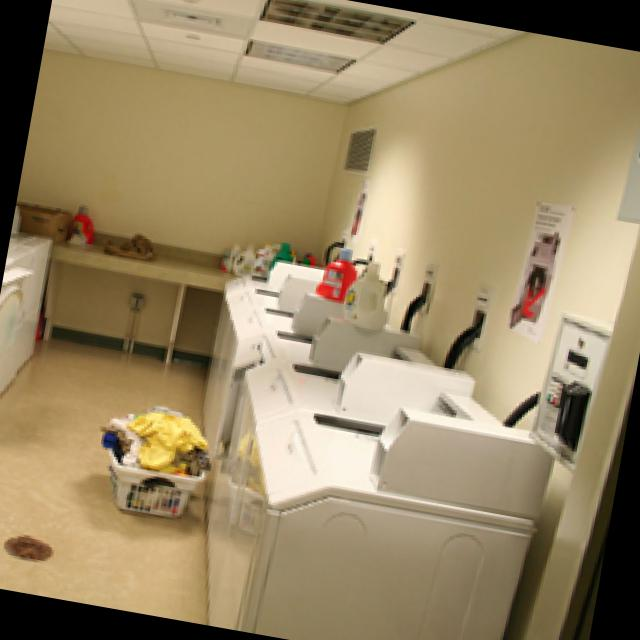basket crop: (103, 423, 201, 516)
ceiling beam: (46, 0, 524, 103)
clothes hamper: (96, 404, 206, 471)
door opening: (506, 195, 640, 640)
floor -X: (0, 319, 536, 640)
sign: (502, 195, 571, 338)
soap dish: (341, 258, 385, 327), (315, 242, 353, 301), (63, 202, 90, 244)
table -X: (19, 217, 305, 362)
wall clock: (283, 31, 640, 640), (0, 45, 340, 372)
washing machine crop: (0, 228, 48, 388)
washing machines: (201, 256, 556, 640)
